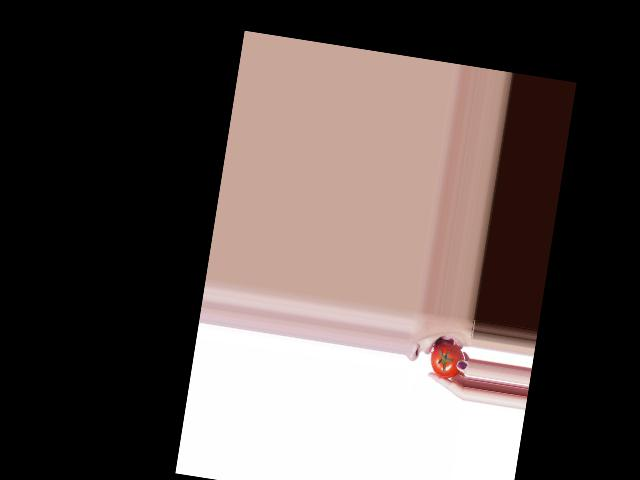tomato: (428, 341, 467, 381)
